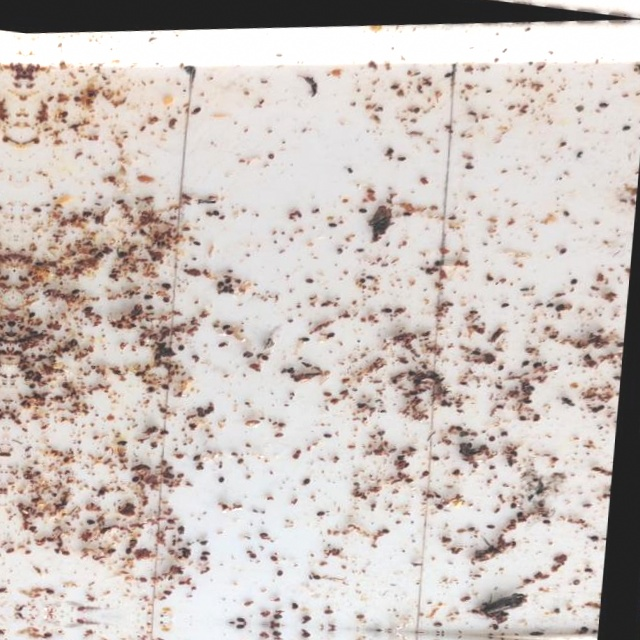varroa: (86, 510, 100, 520), (327, 216, 340, 226), (387, 443, 401, 452), (217, 335, 232, 343), (323, 428, 338, 436), (258, 526, 273, 534), (463, 593, 478, 601), (584, 568, 599, 576), (452, 465, 465, 474), (590, 535, 603, 544), (167, 511, 180, 520), (197, 549, 211, 557), (6, 538, 20, 546), (224, 318, 235, 328), (561, 210, 573, 219), (71, 279, 83, 288), (61, 372, 73, 381), (406, 473, 418, 482), (248, 547, 260, 556), (270, 549, 282, 558), (375, 426, 388, 434), (459, 429, 472, 437), (108, 539, 121, 547), (203, 545, 216, 553), (572, 579, 585, 587), (486, 521, 499, 529), (544, 517, 557, 525), (166, 582, 179, 590), (150, 433, 160, 443), (126, 540, 136, 550), (70, 331, 81, 340), (27, 302, 38, 311), (422, 467, 433, 476), (277, 565, 288, 574), (485, 273, 496, 282), (620, 125, 632, 133), (399, 208, 411, 216), (500, 300, 512, 308), (526, 384, 538, 392), (146, 296, 158, 304), (243, 345, 255, 353), (437, 501, 449, 509), (161, 422, 173, 430), (30, 517, 42, 525), (325, 604, 337, 612), (554, 607, 566, 615), (63, 542, 75, 550), (357, 205, 370, 212), (300, 332, 313, 339), (191, 101, 201, 110), (133, 467, 143, 476), (534, 361, 545, 369), (433, 452, 444, 460), (279, 417, 290, 425), (443, 69, 455, 76), (31, 197, 43, 204), (524, 397, 536, 404), (471, 348, 483, 355), (161, 276, 173, 283), (82, 297, 94, 304), (456, 423, 468, 430), (140, 570, 152, 577), (511, 500, 520, 509), (72, 87, 82, 95), (162, 290, 172, 298), (198, 457, 208, 465), (314, 570, 324, 578), (291, 599, 301, 607), (468, 524, 478, 532), (395, 153, 406, 160), (448, 212, 459, 219), (549, 333, 560, 340), (305, 273, 316, 280), (144, 287, 155, 294), (14, 342, 25, 349), (191, 233, 202, 240), (239, 612, 250, 619), (581, 627, 592, 634), (358, 610, 369, 617), (47, 580, 58, 587), (597, 103, 609, 109), (462, 163, 474, 169), (560, 247, 569, 255), (434, 257, 443, 265), (590, 408, 602, 414), (560, 396, 572, 402), (502, 429, 511, 437), (217, 274, 225, 283), (162, 377, 171, 385), (29, 374, 38, 382), (34, 366, 43, 374), (321, 386, 333, 392), (274, 428, 286, 434), (305, 473, 314, 481), (276, 607, 285, 615), (545, 301, 555, 308), (497, 402, 507, 409), (598, 405, 608, 412), (565, 398, 575, 405), (384, 303, 394, 310), (148, 379, 158, 386), (160, 400, 170, 407), (28, 321, 38, 328), (319, 506, 329, 513), (194, 448, 204, 455), (384, 525, 394, 532), (463, 64, 474, 70), (68, 115, 79, 121), (471, 307, 482, 313), (520, 415, 531, 421), (230, 616, 241, 622), (264, 619, 277, 624), (571, 278, 579, 286), (89, 240, 97, 248), (179, 338, 187, 346), (220, 471, 228, 479), (424, 265, 433, 272), (262, 350, 271, 357), (199, 406, 208, 413), (28, 360, 37, 367), (18, 329, 27, 336), (387, 81, 397, 87), (327, 328, 337, 334), (39, 345, 49, 351), (435, 620, 447, 625), (212, 203, 220, 210), (360, 274, 368, 281), (229, 283, 236, 291), (57, 386, 64, 394), (5, 442, 13, 449), (601, 340, 612, 345), (410, 103, 419, 109), (116, 192, 125, 198), (60, 103, 69, 109), (569, 402, 578, 408), (198, 401, 207, 407), (116, 315, 125, 321), (499, 363, 506, 370), (179, 466, 186, 473), (523, 359, 531, 365), (496, 382, 504, 388), (64, 339, 72, 345), (12, 311, 17, 320), (268, 148, 275, 154), (617, 342, 624, 348), (110, 266, 117, 272), (226, 272, 232, 279), (210, 399, 217, 405), (25, 367, 32, 373), (239, 452, 246, 458), (207, 404, 213, 410), (491, 435, 498, 440)
